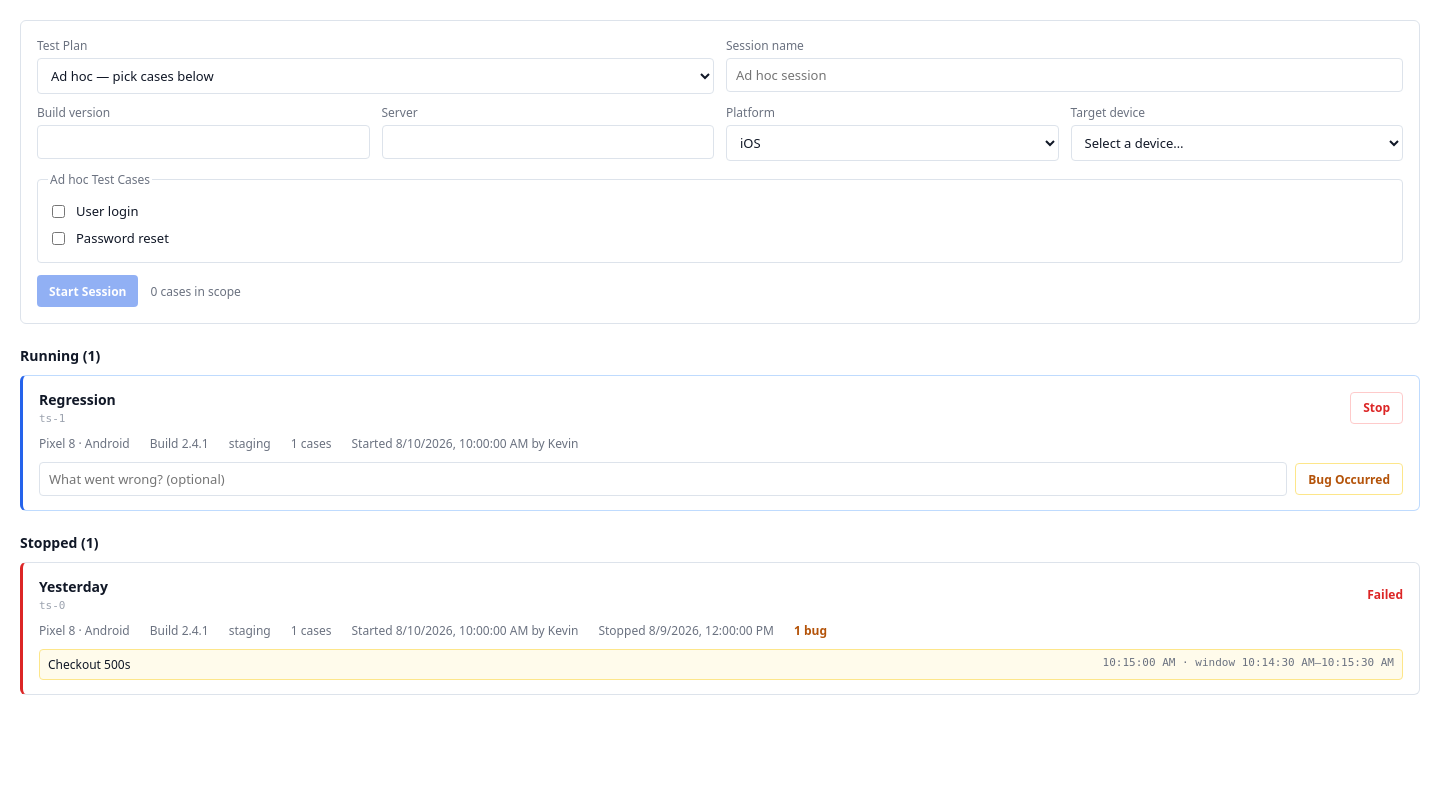
Test: a refused marker is reported, and a stopped session offers no marker at all
Click the button "Bug Occurred" at [1349, 479], box x1=1295 y1=463 x2=1403 y2=495
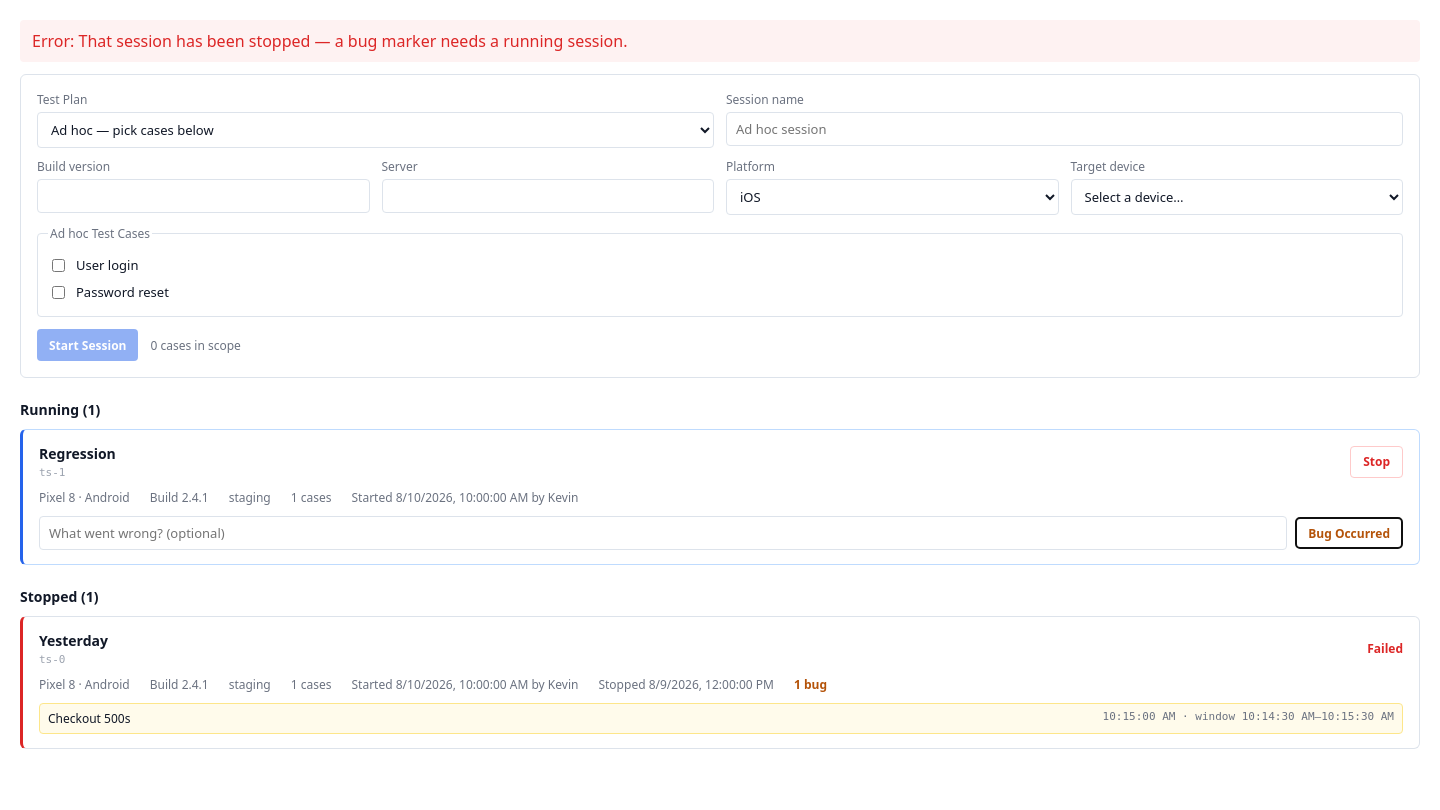
Expected: the number of buttons "Bug Occurred" is 1, x1=1295 y1=517 x2=1403 y2=549
Expected: the message shows "needs a running session", x1=32 y1=30 x2=628 y2=52
